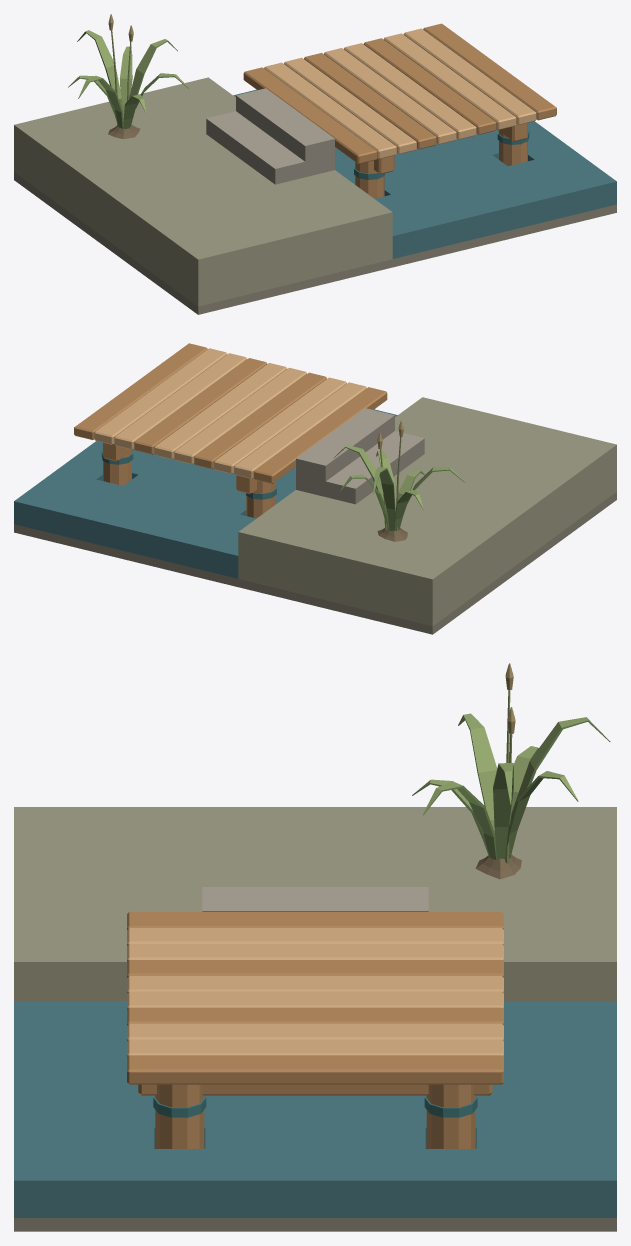
3 views of the same model, one above another, from view 1: azimuth 30°, elevation 25°; view 2: azimuth 150°, elevation 25°; view 3: azimuth 270°, elevation 25° (orthographic). The views are drawn at different scales.
Parts seen in each view (by area): view 1: SceneOnly_RaisedDryBank, whole_pier__harbor-dock-module-01, SceneOnly_OpaqueWaterWithPileClearances, whole_low_steps__village-low-entry-steps-01, SceneOnly_ContinuousBed, whole_reed_sedge__nature-reed-sedge-01; view 2: SceneOnly_RaisedDryBank, whole_pier__harbor-dock-module-01, SceneOnly_OpaqueWaterWithPileClearances, whole_low_steps__village-low-entry-steps-01, SceneOnly_ContinuousBed, whole_reed_sedge__nature-reed-sedge-01; view 3: SceneOnly_OpaqueWaterWithPileClearances, SceneOnly_RaisedDryBank, whole_pier__harbor-dock-module-01, whole_reed_sedge__nature-reed-sedge-01, SceneOnly_ContinuousBed, whole_low_steps__village-low-entry-steps-01.
Part boxes in pixels (box(x1,y1,x2,y2)): SceneOnly_RaisedDryBank: box(14, 77, 392, 306); whole_pier__harbor-dock-module-01: box(243, 23, 556, 198); SceneOnly_OpaqueWaterWithPileClearances: box(233, 89, 616, 258); whole_low_steps__village-low-entry-steps-01: box(206, 88, 334, 184); SceneOnly_ContinuousBed: box(14, 172, 616, 314); whole_reed_sedge__nature-reed-sedge-01: box(68, 14, 188, 139); SceneOnly_RaisedDryBank: box(238, 397, 616, 626); whole_pier__harbor-dock-module-01: box(74, 343, 387, 518); SceneOnly_OpaqueWaterWithPileClearances: box(14, 409, 397, 578); whole_low_steps__village-low-entry-steps-01: box(296, 408, 424, 504); SceneOnly_ContinuousBed: box(14, 492, 616, 634); whole_reed_sedge__nature-reed-sedge-01: box(334, 420, 465, 541); SceneOnly_OpaqueWaterWithPileClearances: box(14, 1001, 616, 1217); SceneOnly_RaisedDryBank: box(14, 807, 616, 1001); whole_pier__harbor-dock-module-01: box(127, 912, 503, 1148); whole_reed_sedge__nature-reed-sedge-01: box(412, 663, 610, 879); SceneOnly_ContinuousBed: box(14, 1218, 616, 1231); whole_low_steps__village-low-entry-steps-01: box(202, 887, 428, 911).
Size of the model in its own units: 4.2 by 1.67 by 3.2.
